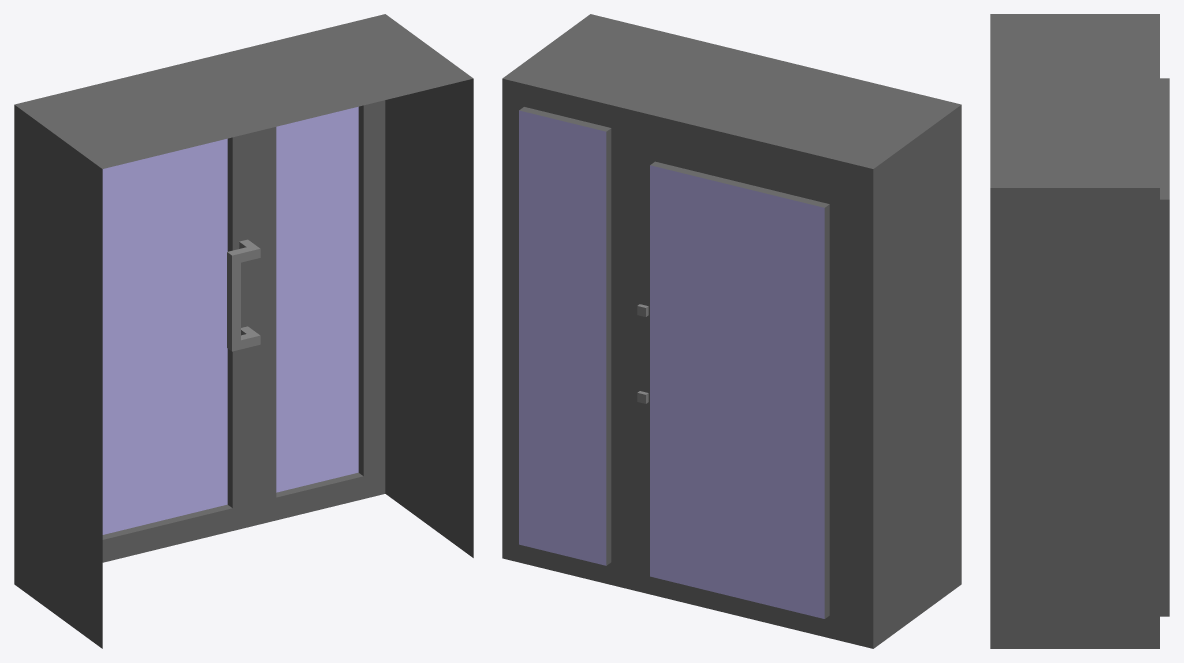
Rendered from door1.glb.
3 views of the same model, side by side, from view 1: azimuth 30°, elevation 25°; view 2: azimuth 150°, elevation 25°; view 3: azimuth 270°, elevation 25° (orthographic). The views are drawn at different scales.
Parts seen in each view (by area): view 1: Door, Plane.002; view 2: Door; view 3: Door.
Boxes of the visible parts, left/top/right/bottom form: Door: left=14, top=14, right=473, bottom=648; Plane.002: left=227, top=239, right=260, bottom=351; Door: left=502, top=14, right=961, bottom=648; Door: left=990, top=14, right=1169, bottom=648.
Bounding box in the file's own units: 1.7 × 2.1 × 0.74.
